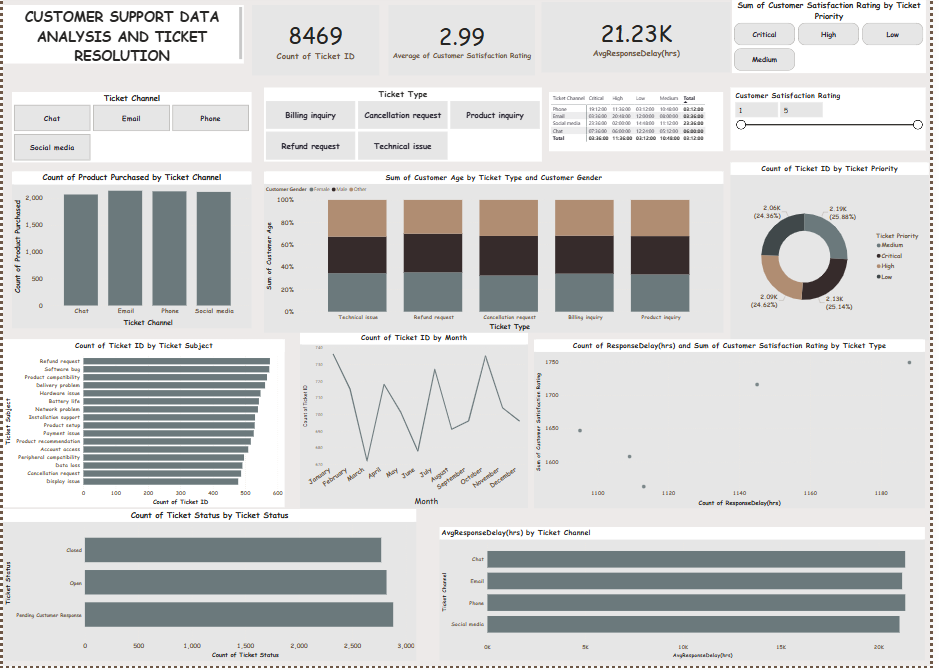

What the dashboard file says about the page in this screenshot:
{"tool":"powerbi","page":{"name":"Page 1","canvas":[2500,1800],"ordinal":0},"visuals":[{"type":"columnChart","fields":{"Category":["customer_support_tickets.Ticket Channel"],"Y":["CountNonNull(customer_support_tickets.Product Purchased)"]},"box":[23.3,466.7,646.7,423.3],"z":0},{"type":"card","fields":{"Values":["CountNonNull(customer_support_tickets.Ticket ID)"]},"box":[670,16.7,343.3,190],"z":1000},{"type":"card","fields":{"Values":["Avg(customer_support_tickets.Customer Satisfaction Rating)"]},"box":[1040,15,395,190],"z":2000},{"type":"lineChart","fields":{"Category":["customer_support_tickets.Date of Purchase.Variation.Date Hierarchy.Month"],"Y":["CountNonNull(customer_support_tickets.Ticket ID)"]},"box":[800,900,615,475],"z":3000},{"type":"hundredPercentStackedColumnChart","fields":{"Category":["customer_support_tickets.Ticket Type"],"Y":["Sum(customer_support_tickets.Customer Age)"],"Series":["customer_support_tickets.Customer Gender"]},"box":[705,465,1240,435],"z":4000},{"type":"donutChart","fields":{"Category":["customer_support_tickets.Ticket Priority"],"Y":["CountNonNull(customer_support_tickets.Ticket ID)"]},"box":[1965,440,535,480],"z":5000},{"type":"barChart","fields":{"Category":["customer_support_tickets.Ticket Status"],"Y":["CountNonNull(customer_support_tickets.Ticket Status)"]},"box":[0,1375,1115,410],"z":6000},{"type":"clusteredBarChart","fields":{"Category":["customer_support_tickets.Ticket Subject"],"Y":["CountNonNull(customer_support_tickets.Ticket ID)"]},"box":[0,920,760,452.5],"z":7000},{"type":"advancedSlicerVisual","fields":{"Values":["customer_support_tickets.Ticket Priority"]},"box":[1966.7,0,523.3,200],"z":8000},{"type":"advancedSlicerVisual","fields":{"Values":["customer_support_tickets.Ticket Channel"]},"box":[23.3,250,646.7,190],"z":9000},{"type":"slicer","fields":{"Values":["customer_support_tickets.Customer Satisfaction Rating"]},"box":[1963.3,240,526.7,170],"z":10000},{"type":"advancedSlicerVisual","fields":{"Values":["customer_support_tickets.Ticket Type"]},"box":[705,240,750,200],"z":11000},{"type":"pivotTable","fields":{"Rows":["customer_support_tickets.Ticket Channel"],"Columns":["customer_support_tickets.Ticket Priority"],"Values":["Min(customer_support_tickets.ResponseDelay(hrs))"]},"box":[1475,250,470,160],"z":12000},{"type":"clusteredBarChart","fields":{"Category":["customer_support_tickets.Ticket Channel"],"Y":["customer_support_tickets.AvgResponseDelay(hrs)"]},"box":[1180,1425,1310,360],"z":13000},{"type":"card","fields":{"Values":["customer_support_tickets.AvgResponseDelay(hrs)"]},"box":[1455,10,510,190],"z":13001},{"type":"scatterChart","fields":{"Category":["customer_support_tickets.Ticket Type"],"Y":["Sum(customer_support_tickets.Customer Satisfaction Rating)"],"X":["customer_support_tickets.ResponseDelay(hrs)"]},"box":[1435,920,1055,455],"z":13002},{"type":"textbox","box":[0,17,650,158],"z":13003}]}

Visuals, with their boxes in screenshot pixels (x1, y1, x2, y2), scaled from the page's 2500x1800 canvas onto the 939x670 screenshot:
columnChart - customer_support_tickets.Ticket Channel x CountNonNull(customer_support_tickets.Product Purchased): 9,174,252,331
card - CountNonNull(customer_support_tickets.Ticket ID): 252,6,381,77
card - Avg(customer_support_tickets.Customer Satisfaction Rating): 391,6,539,76
lineChart - customer_support_tickets.Date of Purchase.Variation.Date Hierarchy.Month x CountNonNull(customer_support_tickets.Ticket ID): 300,335,531,512
hundredPercentStackedColumnChart - customer_support_tickets.Ticket Type x Sum(customer_support_tickets.Customer Age): 265,173,731,335
donutChart - customer_support_tickets.Ticket Priority x CountNonNull(customer_support_tickets.Ticket ID): 738,164,938,342
barChart - customer_support_tickets.Ticket Status x CountNonNull(customer_support_tickets.Ticket Status): 0,512,419,664
clusteredBarChart - customer_support_tickets.Ticket Subject x CountNonNull(customer_support_tickets.Ticket ID): 0,342,285,511
advancedSlicerVisual - customer_support_tickets.Ticket Priority: 739,0,935,74
advancedSlicerVisual - customer_support_tickets.Ticket Channel: 9,93,252,164
slicer - customer_support_tickets.Customer Satisfaction Rating: 737,89,935,153
advancedSlicerVisual - customer_support_tickets.Ticket Type: 265,89,546,164
pivotTable - customer_support_tickets.Ticket Channel x customer_support_tickets.Ticket Priority: 554,93,731,153
clusteredBarChart - customer_support_tickets.Ticket Channel x customer_support_tickets.AvgResponseDelay(hrs): 443,530,935,664
card - customer_support_tickets.AvgResponseDelay(hrs): 546,4,738,74
scatterChart - customer_support_tickets.Ticket Type x Sum(customer_support_tickets.Customer Satisfaction Rating): 539,342,935,512
textbox: 0,6,244,65
